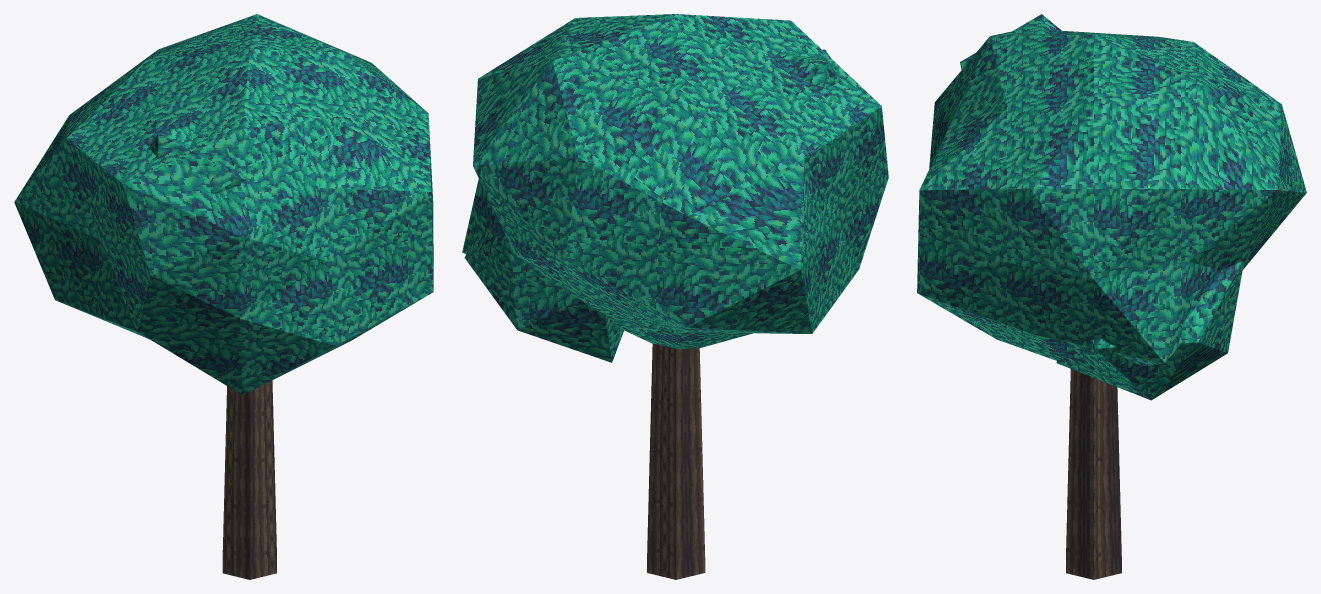
Rendered from oak.glb.
3 views of the same model, side by side, from view 1: azimuth 30°, elevation 25°; view 2: azimuth 150°, elevation 25°; view 3: azimuth 270°, elevation 25° (orthographic). The views are drawn at different scales.
Visible parts, largest first — view 1: oak; view 2: oak; view 3: oak.
Boxes of the visible parts, x1,y1,x2,y2 form: oak: (14,14,433,579); oak: (462,14,888,579); oak: (917,14,1306,579).
Bounding box in the file's own units: 3.97 × 5.62 × 3.74.
Materials: 2 (2 with a texture image).
